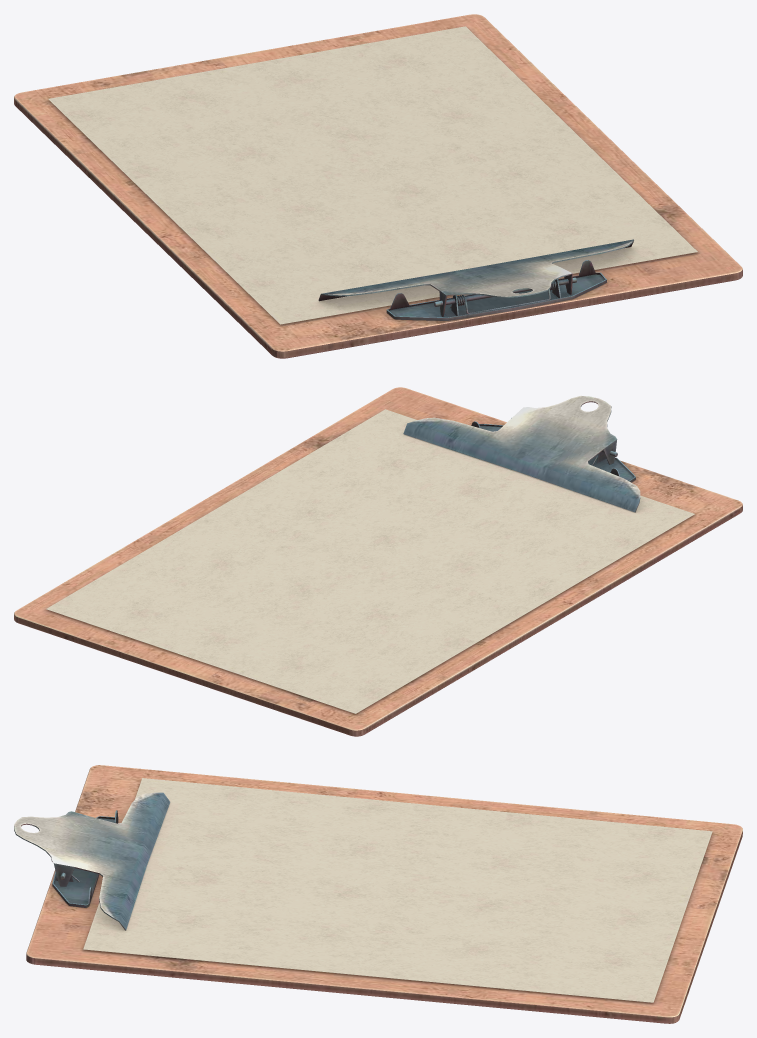
Rendered from Clipboard.glb.
3 views of the same model, one above another, from view 1: azimuth 30°, elevation 25°; view 2: azimuth 150°, elevation 25°; view 3: azimuth 270°, elevation 25° (orthographic). The views are drawn at different scales.
Visible parts, largest first — view 1: PAGE, Board; view 2: PAGE, Board; view 3: PAGE, Board.
Boxes of the visible parts, x1=… form: PAGE: x1=48, y1=26, x2=697, y2=324; Board: x1=14, y1=14, x2=742, y2=358; PAGE: x1=46, y1=409, x2=694, y2=713; Board: x1=14, y1=387, x2=742, y2=736; PAGE: x1=83, y1=778, x2=712, y2=1002; Board: x1=14, y1=765, x2=742, y2=1023.
Bounding box in the file's own units: 0.4226 × 0.053 × 0.5579.
3 materials, 3 textured.
